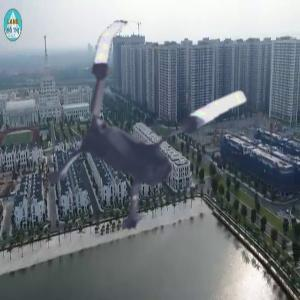drone: (21, 16, 265, 260)
